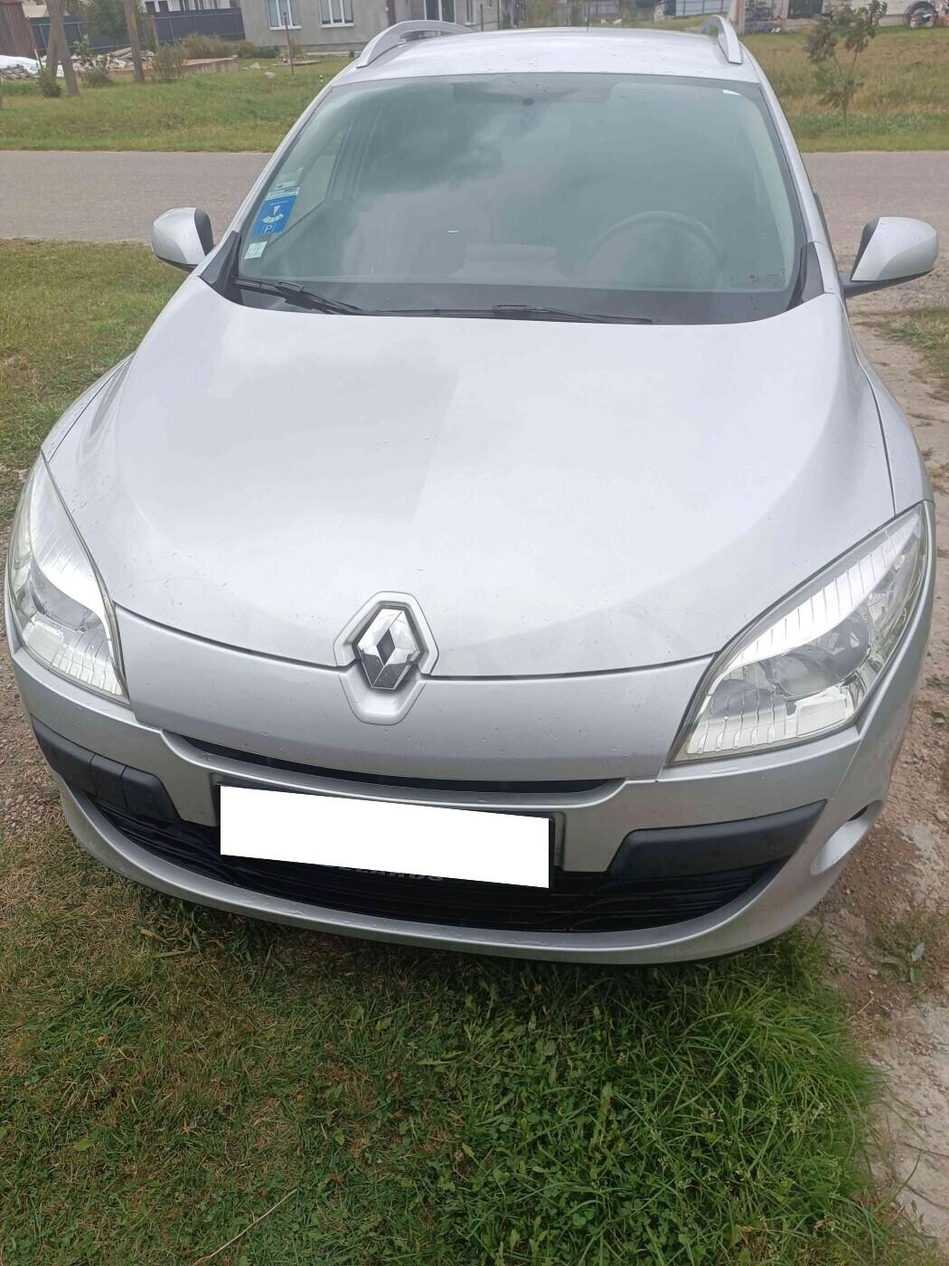Megane_2008-2014: (5, 22, 949, 948)
